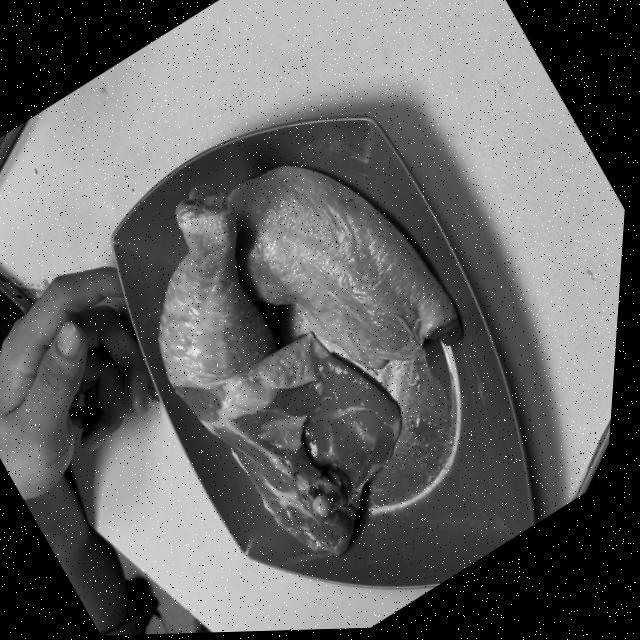quater: (158, 204, 380, 556), (219, 164, 465, 350)
